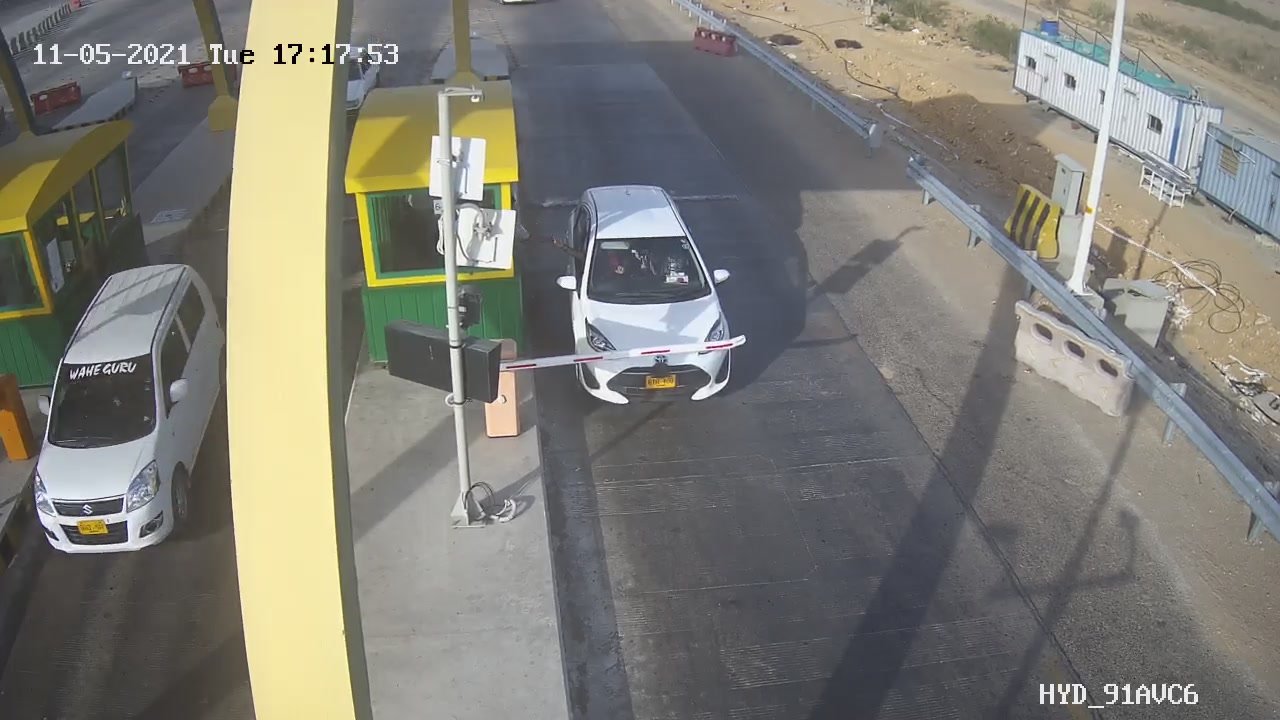F1: (540, 170, 759, 427)
